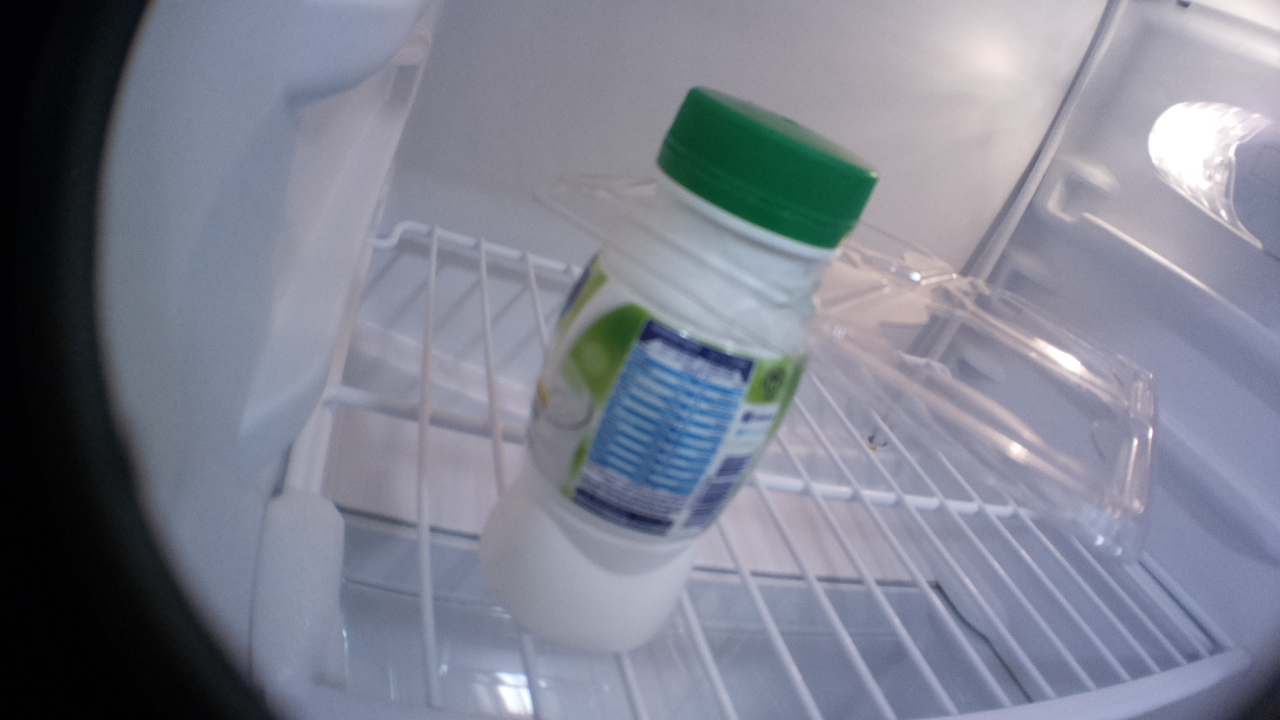laban: (471, 81, 881, 663)
